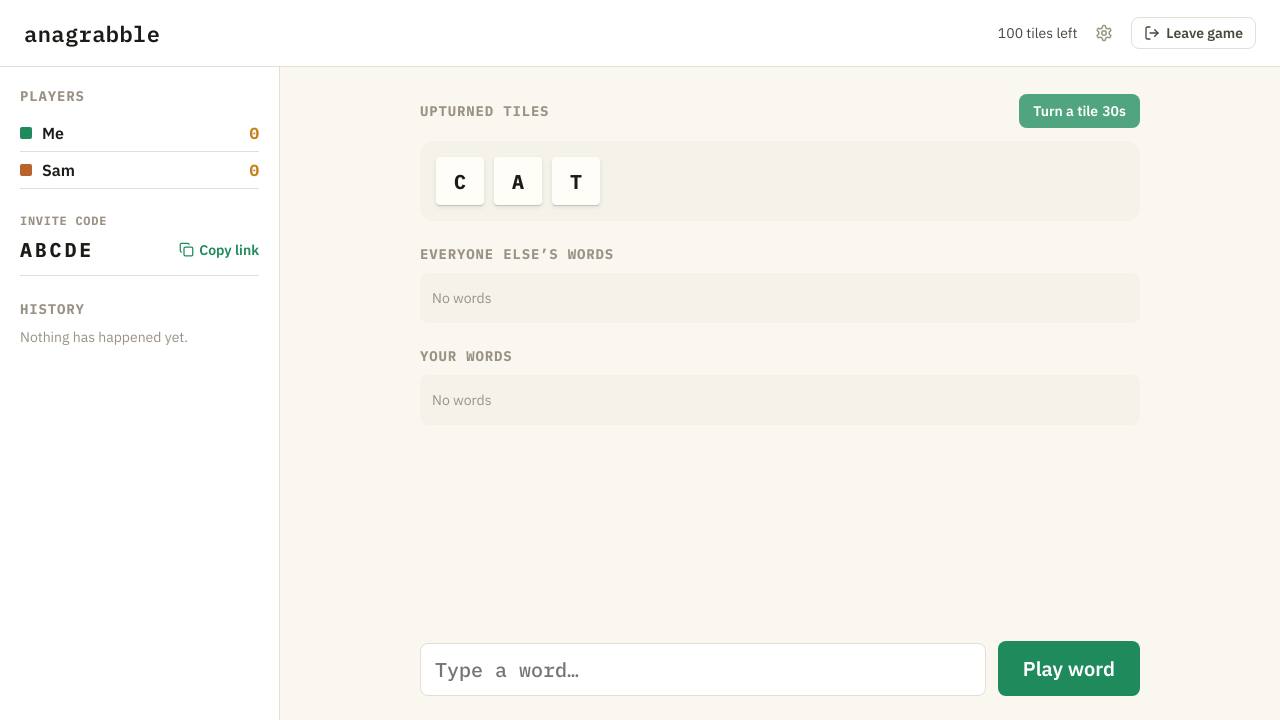
Test: GameBoard › uppercases input and strips non-letter characters as the user types
Step 1. Type "ca7 t's!" into the field with placeholder "Type a word…" → (703,670), box x1=420 y1=643 x2=986 y2=696
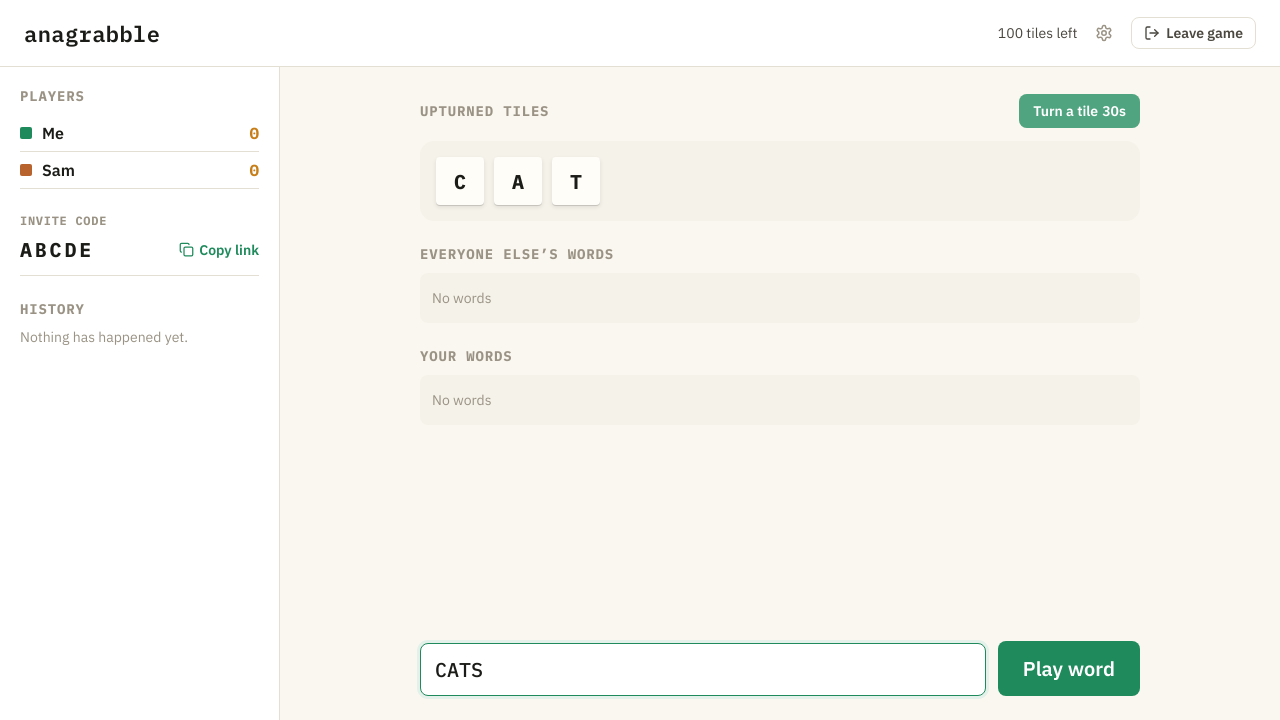
Expected: the field with placeholder "Type a word…" holds "CATS", x1=420 y1=643 x2=986 y2=696
